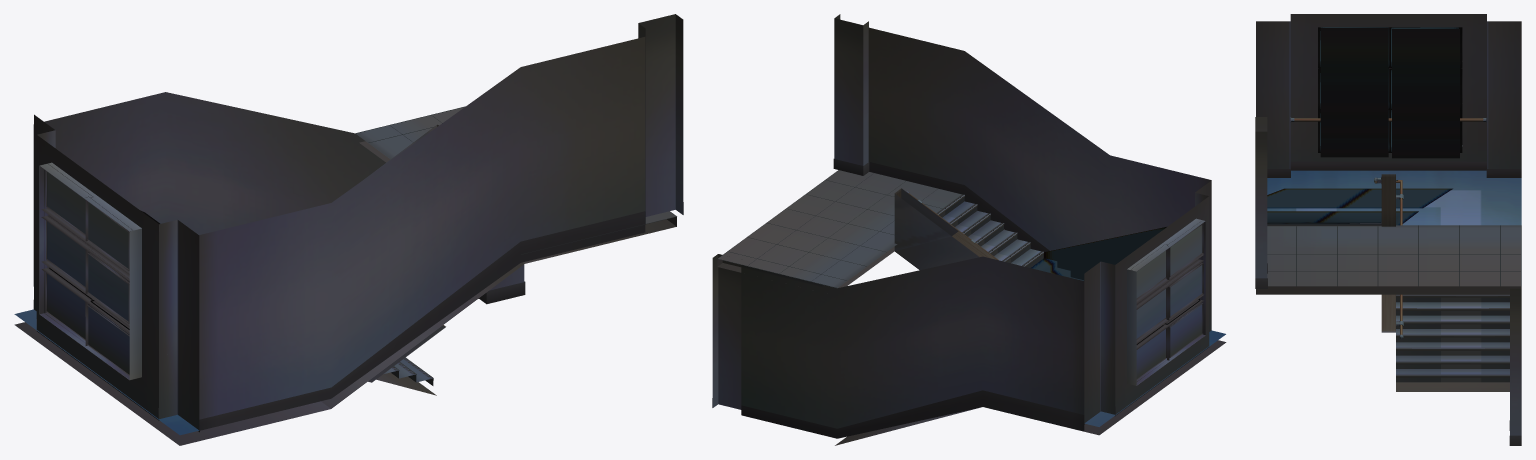
File: JpsStairs_middlefloor_night.FBX
The picture shows the model from 3 angles, left to right: view 1: azimuth 30°, elevation 25°; view 2: azimuth 150°, elevation 25°; view 3: azimuth 270°, elevation 25°; orthographic projection. The views are drawn at different scales.
Parts seen in each view (by area): view 1: Sta_middleF_wallB_nig, Sta_MiddleF_window_nig, Sta_middleF_wallF_nig, Sta_middleF_stairs_nig; view 2: Sta_middleF_wallF_nig, Sta_middleF_wallB_nig, Sta_middleF_stairs_nig, Sta_MiddleF_window_nig, Sta_middleF_spotB_nig; view 3: Sta_middleF_stairs_nig, Sta_MiddleF_window_nig, Sta_MiddleF_beam01_add_nig, Sta_middleF_spotF_nig, Sta_MiddleF_baseboards_nig, Sta_middleF_wallB_nig, Sta_middleF_wallF_nig, Sta_MiddleF_beam_add_nig.
Part boxes in pixels (x1,y1,x2,y2): Sta_middleF_wallB_nig: (199, 14, 683, 430); Sta_MiddleF_window_nig: (34, 114, 199, 430); Sta_middleF_wallF_nig: (33, 92, 525, 308); Sta_middleF_stairs_nig: (14, 106, 676, 445); Sta_middleF_wallF_nig: (712, 254, 1084, 438); Sta_middleF_wallB_nig: (833, 14, 1211, 257); Sta_middleF_stairs_nig: (717, 170, 1226, 445); Sta_MiddleF_window_nig: (1084, 180, 1211, 423); Sta_middleF_spotB_nig: (1044, 227, 1166, 280); Sta_middleF_stairs_nig: (1256, 170, 1521, 391); Sta_MiddleF_window_nig: (1256, 14, 1521, 168); Sta_MiddleF_beam01_add_nig: (1320, 28, 1459, 158); Sta_middleF_spotF_nig: (1267, 188, 1452, 225); Sta_MiddleF_baseboards_nig: (1267, 161, 1521, 177); Sta_middleF_wallB_nig: (1255, 117, 1267, 288); Sta_middleF_wallF_nig: (1509, 288, 1521, 445); Sta_MiddleF_beam_add_nig: (1318, 27, 1462, 152).
Bounding box in the file's own units: 826 × 616 × 461.
